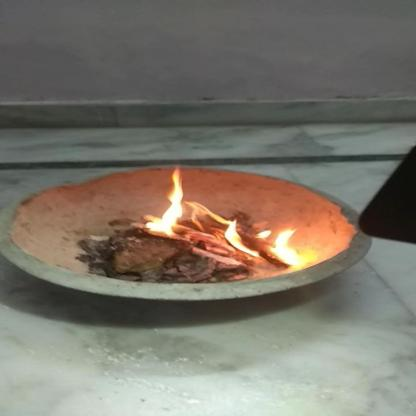fire: (141, 180, 298, 266)
